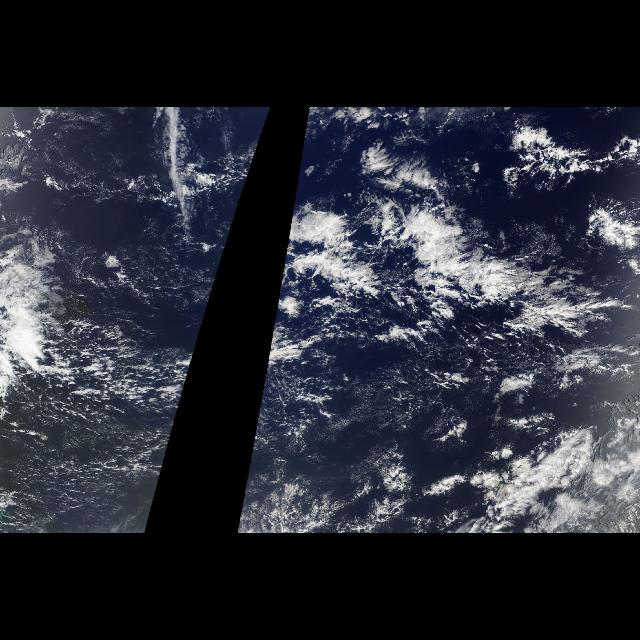Sugar: (2, 404, 150, 530)
